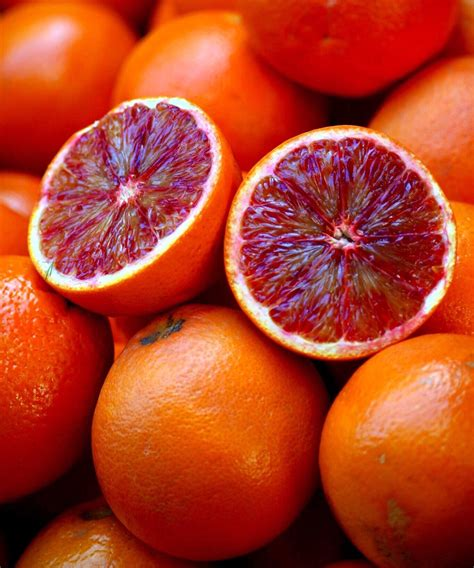orange: (88, 301, 334, 552), (316, 330, 474, 568)
